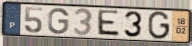3: (122, 10, 145, 39), (73, 7, 95, 37)
5: (24, 6, 44, 34)
E: (96, 9, 122, 38)
G: (147, 10, 172, 41), (47, 7, 70, 35)
